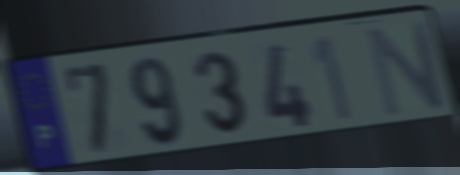1: (310, 31, 354, 126)
3: (192, 49, 249, 139)
4: (262, 38, 315, 131)
7: (58, 61, 116, 160)
9: (130, 53, 189, 150)
N: (363, 17, 449, 121)
